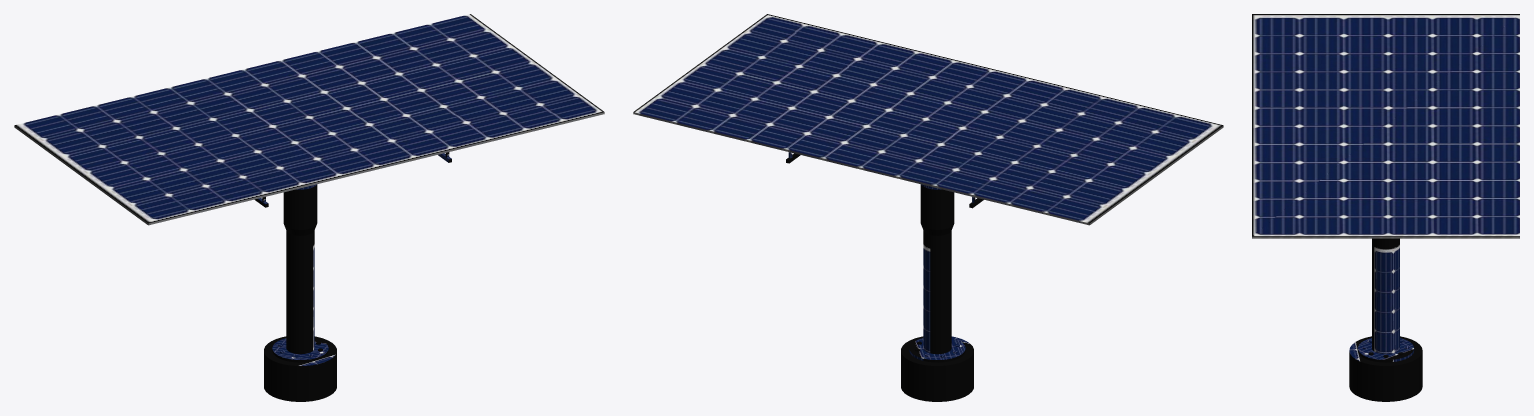
3 views of the same model, side by side, from view 1: azimuth 30°, elevation 25°; view 2: azimuth 150°, elevation 25°; view 3: azimuth 270°, elevation 25° (orthographic).
Parts seen in each view (by area): view 1: Object_2, FoundationElement; view 2: Object_2, FoundationElement; view 3: Object_2, FoundationElement.
Boxes of the visible parts, left/top/right/bottom form: Object_2: left=14, top=14, right=604, bottom=225; FoundationElement: left=264, top=184, right=336, bottom=401; Object_2: left=633, top=14, right=1223, bottom=225; FoundationElement: left=901, top=184, right=973, bottom=401; Object_2: left=1252, top=14, right=1519, bottom=238; FoundationElement: left=1349, top=238, right=1422, bottom=401.
Bounding box in the file's own units: 9.69 × 5.39 × 4.92.
Materials: 2 (2 with a texture image).
